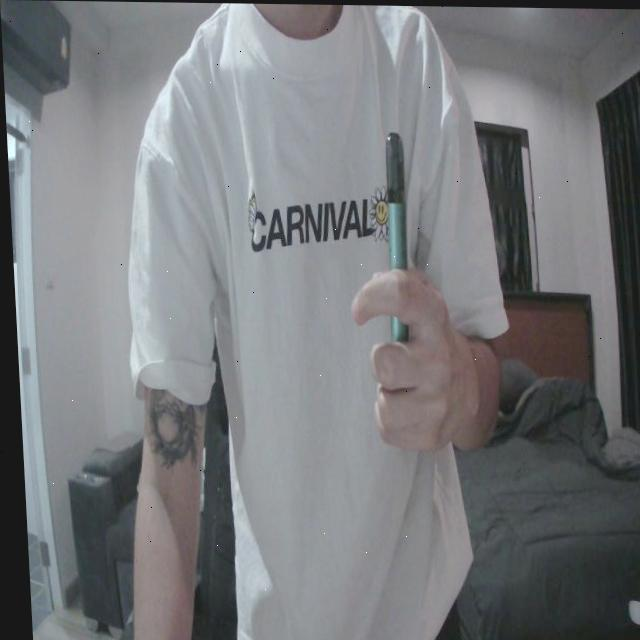vape: (381, 128, 414, 343)
